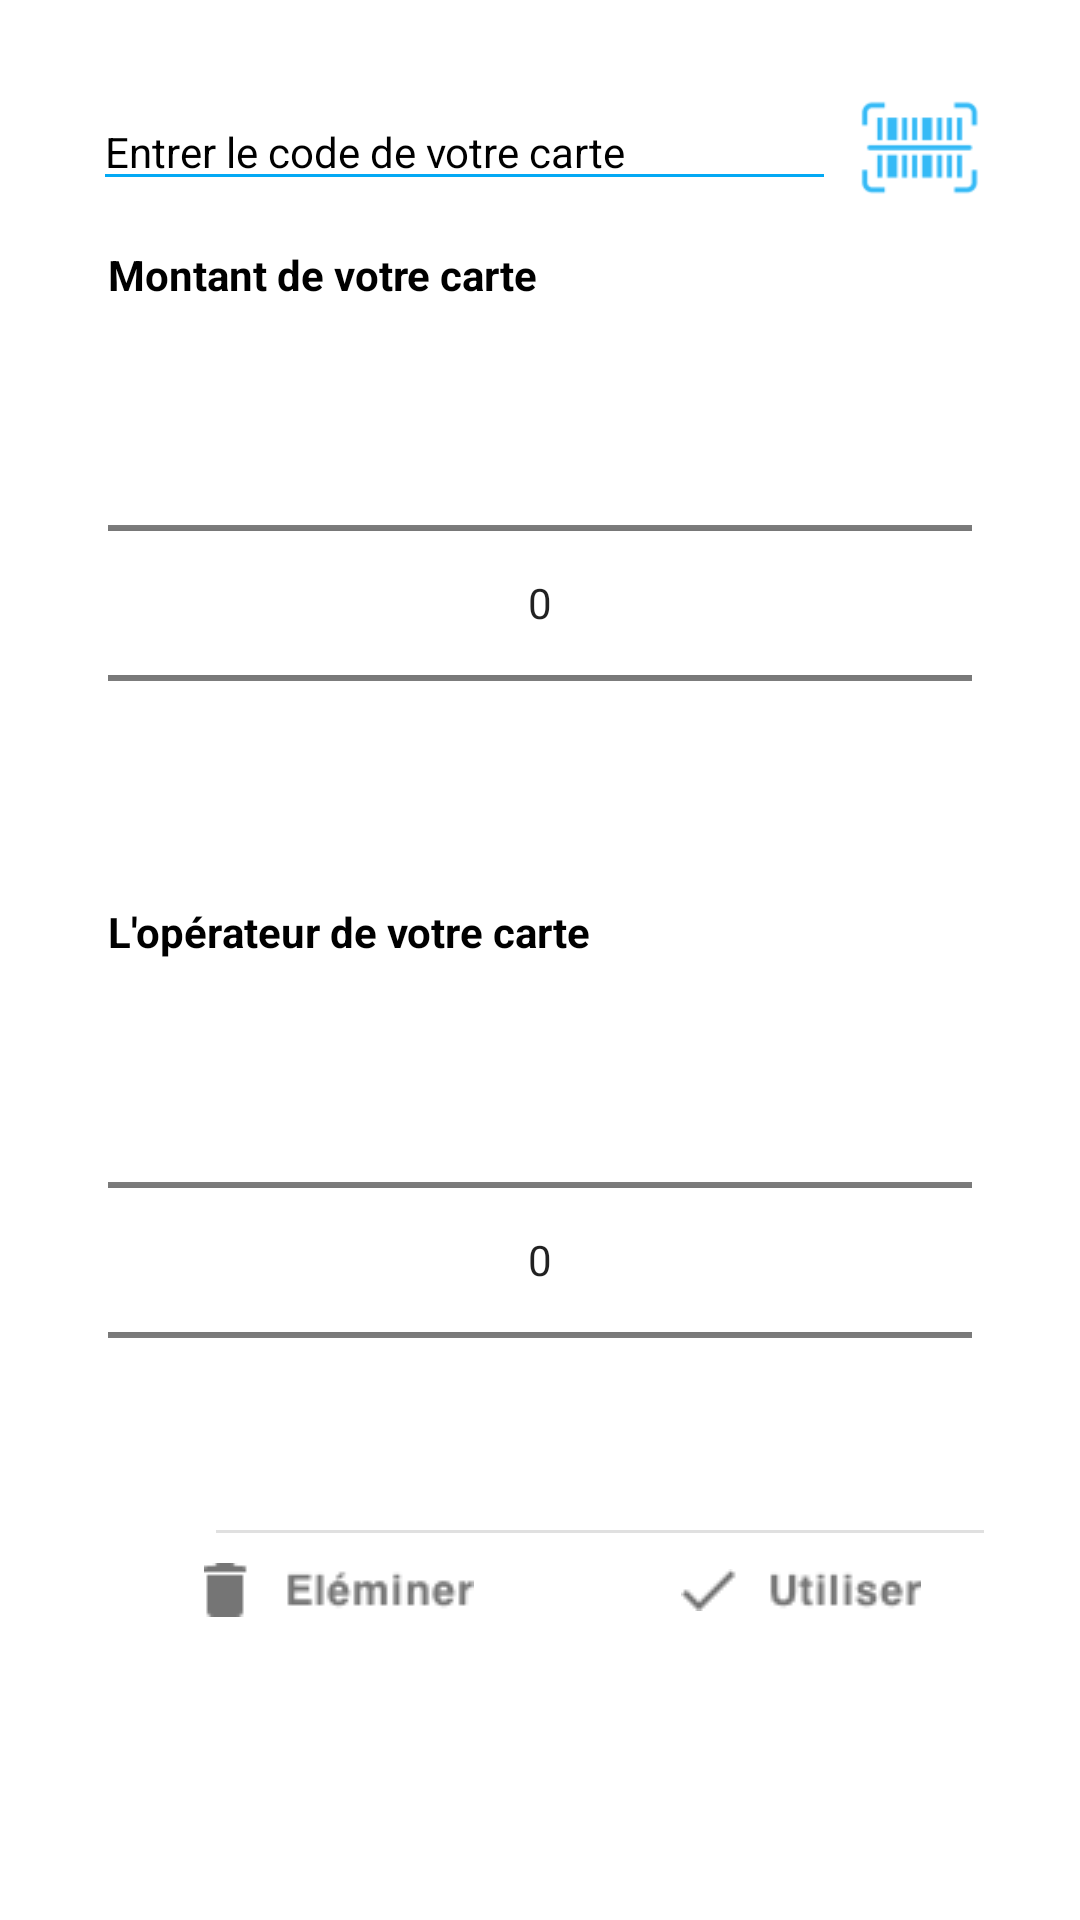

Icon bounding boxes for this 1080px×1920px phone screenshot, format box=[x1, y1, x2, y2]:
scan: box=[861, 102, 978, 194]
